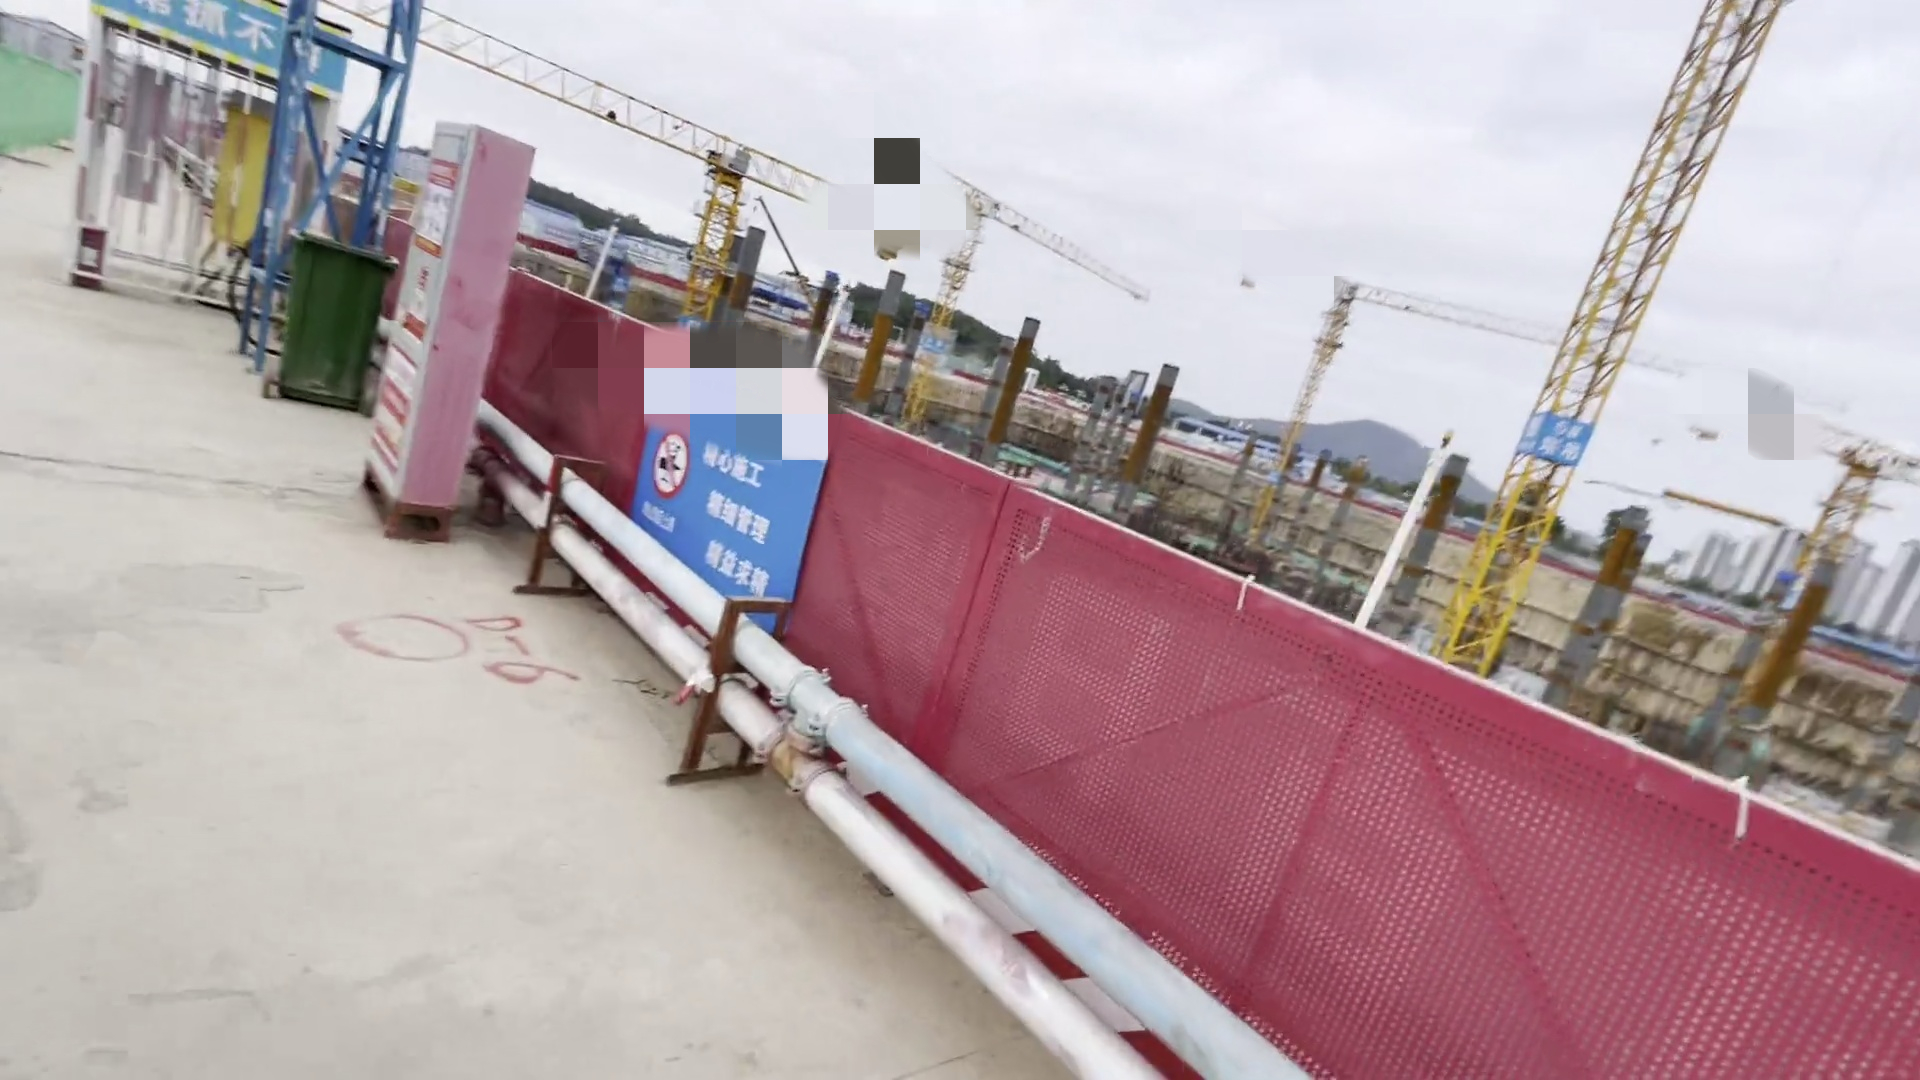ebox: (196, 102, 286, 264)
fence: (345, 218, 1832, 1044)
slogan: (632, 375, 818, 622), (62, 1, 344, 94)
